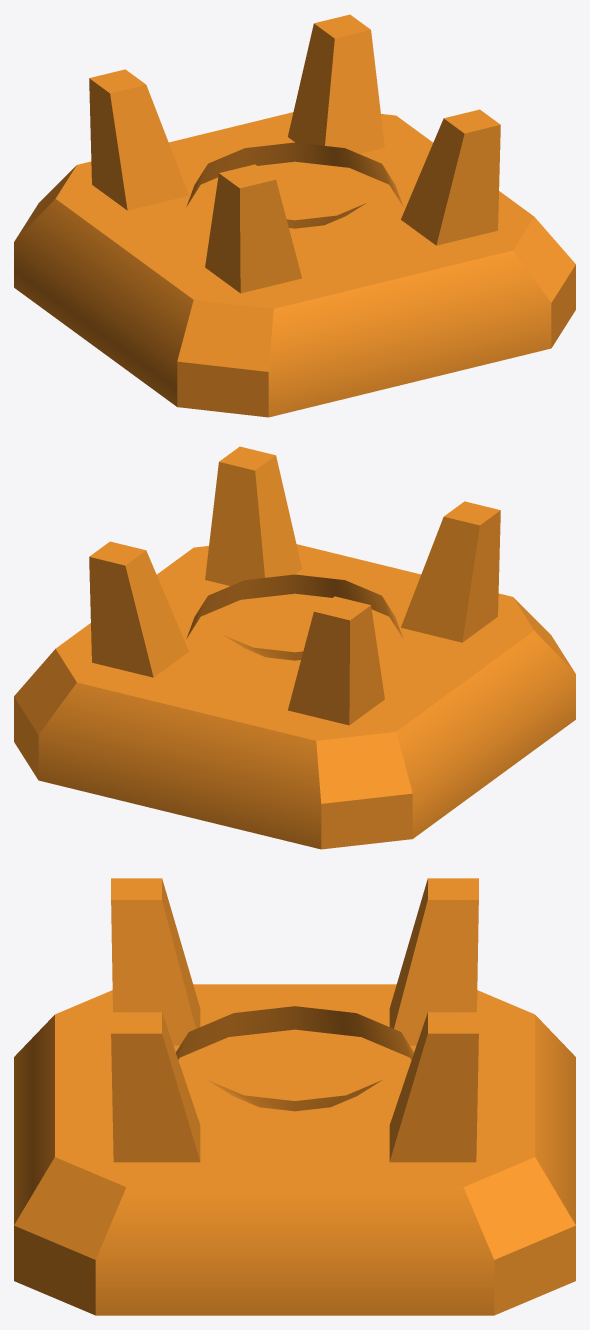
Rendered from kicktee.glb.
3 views of the same model, one above another, from view 1: azimuth 30°, elevation 25°; view 2: azimuth 150°, elevation 25°; view 3: azimuth 270°, elevation 25° (orthographic). The views are drawn at different scales.
Visible parts, largest first — view 1: kicktee; view 2: kicktee; view 3: kicktee.
Boxes of the visible parts, left/top/right/bottom form: kicktee: left=14, top=14, right=575, bottom=417; kicktee: left=14, top=446, right=575, bottom=849; kicktee: left=14, top=878, right=575, bottom=1315.
Size of the model in its own units: 0.11 by 0.052 by 0.11.
